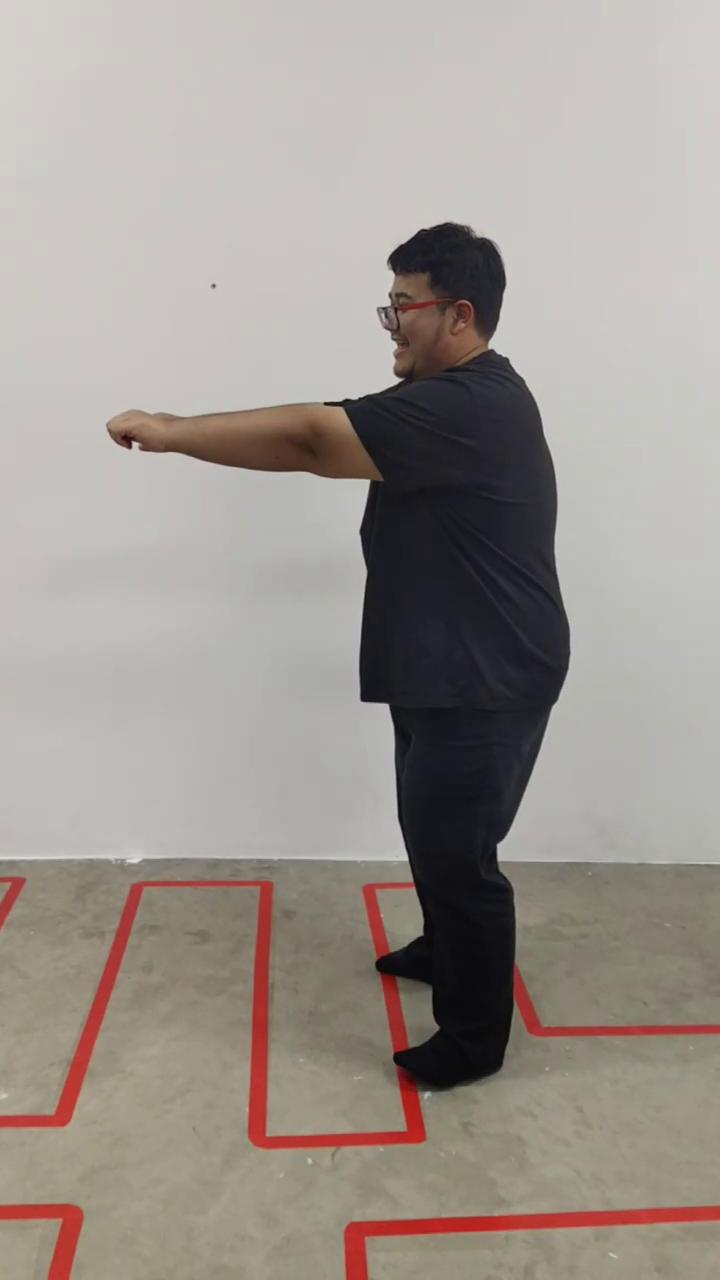squat up: (108, 220, 571, 1090)
